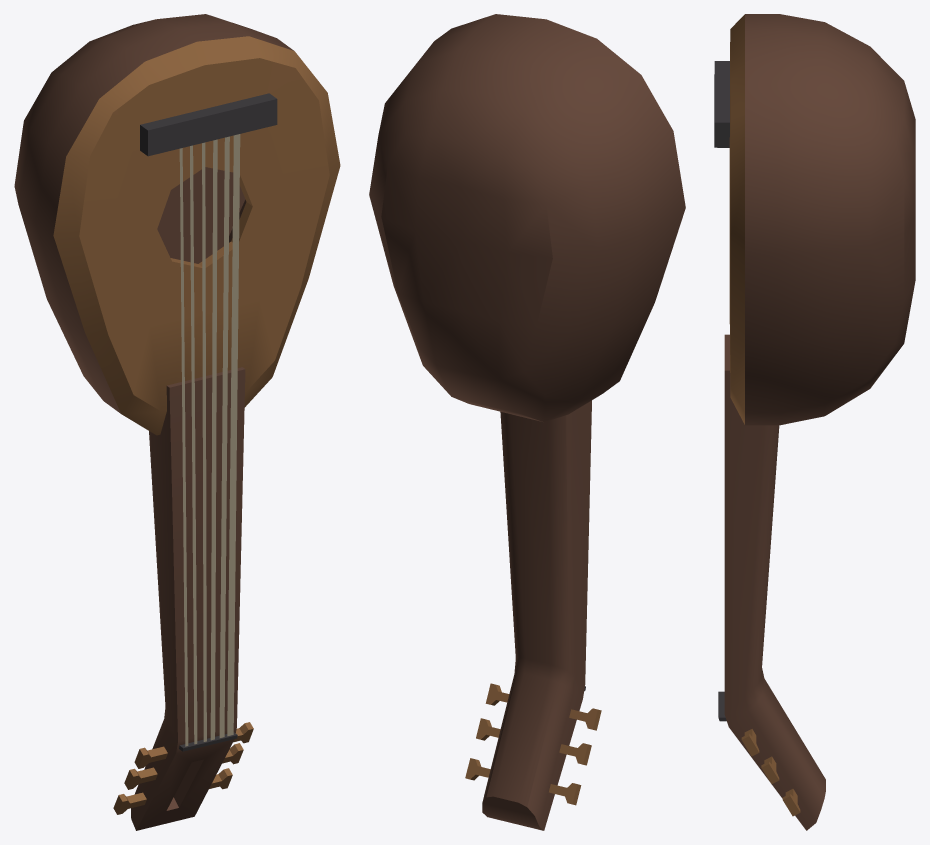
File: lute.glb
3 views of the same model, side by side, from view 1: azimuth 30°, elevation 25°; view 2: azimuth 150°, elevation 25°; view 3: azimuth 270°, elevation 25° (orthographic). The views are drawn at different scales.
Parts seen in each view (by area): view 1: Weapon_Lute; view 2: Weapon_Lute; view 3: Weapon_Lute.
Part boxes in pixels (x1,y1,x2,y2): Weapon_Lute: [14, 14, 340, 830]; Weapon_Lute: [369, 14, 685, 830]; Weapon_Lute: [714, 14, 915, 830].
Bounding box in the file's own units: 0.4987 × 1.33 × 0.3096.
1 material, 1 textured.
